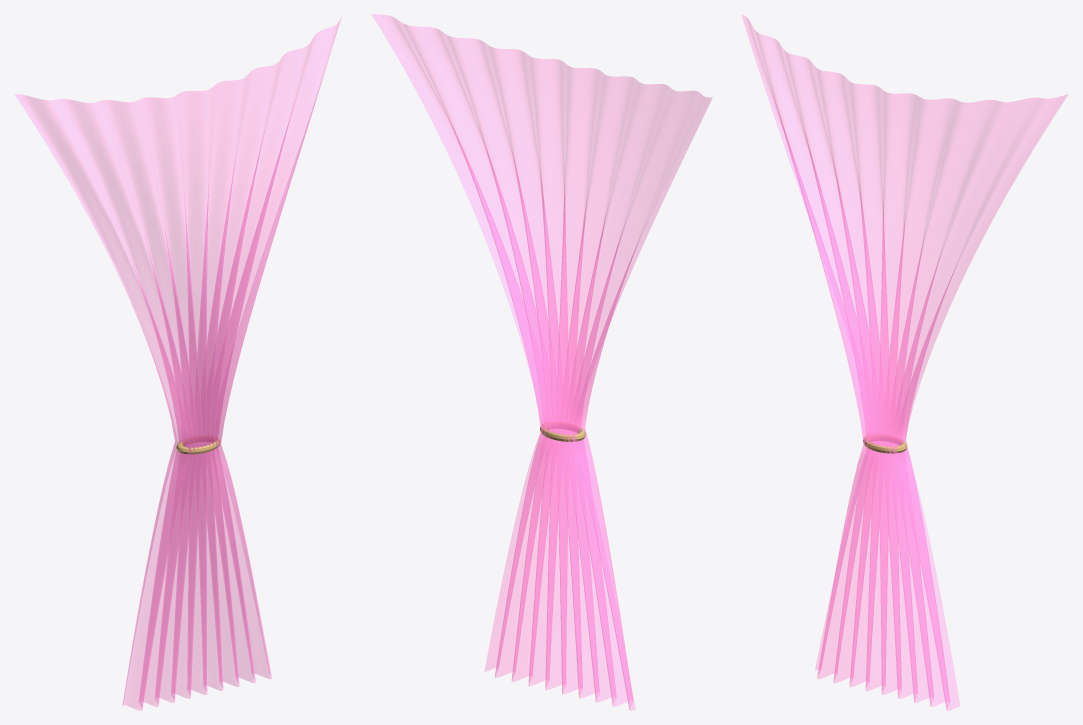
Rendered from JAC_04_Cortina.glb.
3 renders of one model, left to right at view 1: azimuth 30°, elevation 25°; view 2: azimuth 150°, elevation 25°; view 3: azimuth 330°, elevation 25°, orthographic. The views are drawn at different scales.
Visible parts, largest first — view 1: JAC_04_Cortina; view 2: JAC_04_Cortina; view 3: JAC_04_Cortina.
Boxes of the visible parts, x1=… form: JAC_04_Cortina: x1=14, y1=16, x2=341, y2=710; JAC_04_Cortina: x1=371, y1=14, x2=712, y2=710; JAC_04_Cortina: x1=741, y1=14, x2=1068, y2=710.
Size of the model in its own units: 1.6 by 2.9 by 0.2352.
